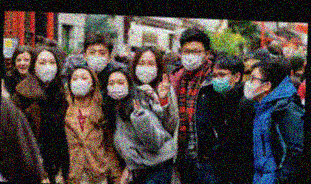with_mask: (85, 46, 110, 73), (180, 45, 205, 72), (210, 69, 234, 95), (105, 76, 130, 100), (134, 57, 157, 83), (241, 72, 262, 100), (34, 56, 56, 82), (70, 72, 93, 96)
without_mask: (14, 55, 32, 74)
